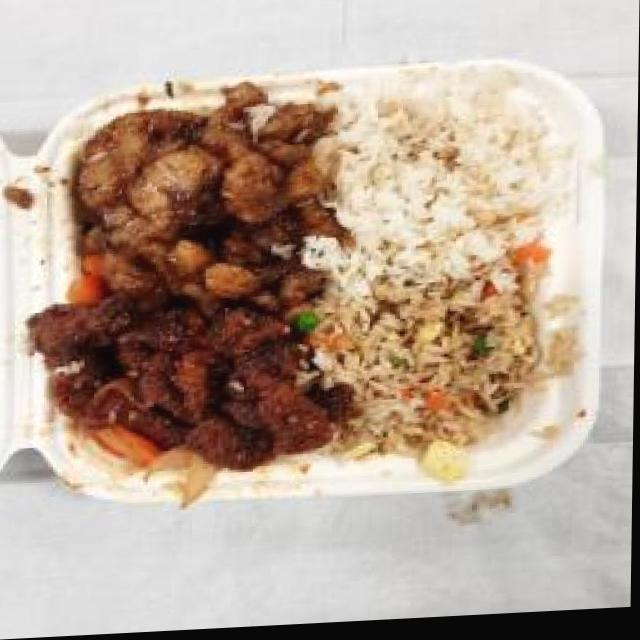Beijing Beef: (19, 283, 337, 494)
Fried Rice: (304, 281, 586, 477)
The Original Orange Chicken: (64, 89, 332, 300)
White Steamed Rice: (329, 82, 569, 286)
